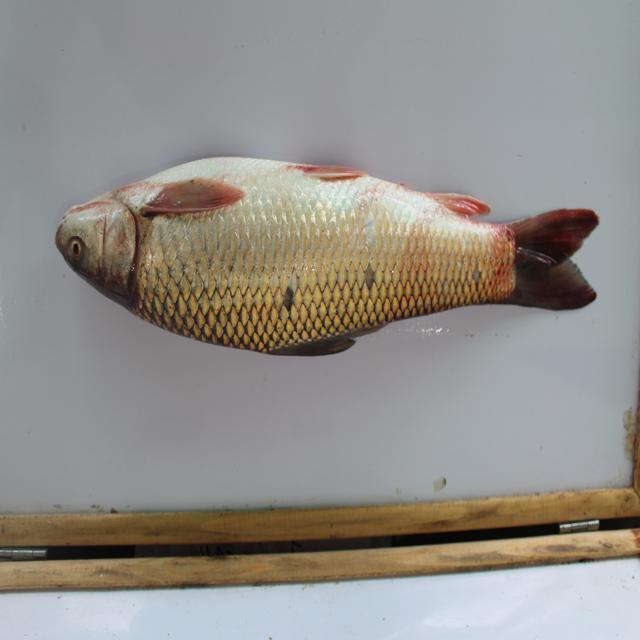Mori: (52, 146, 618, 368)
